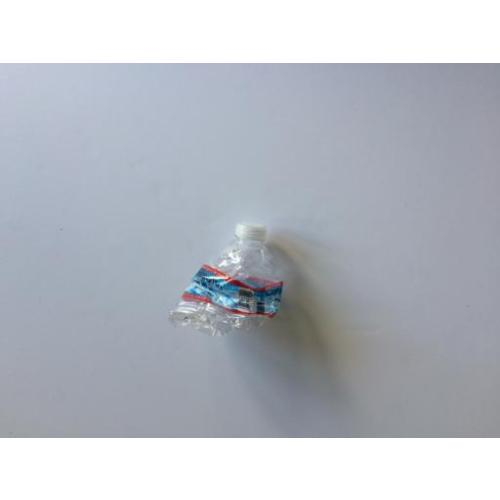plastic: (162, 225, 291, 334)
